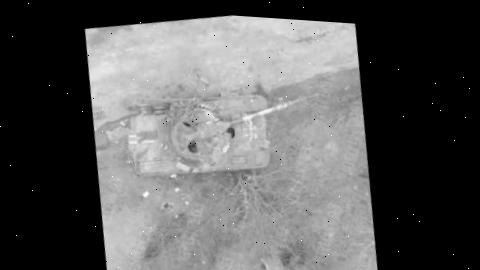tank: (119, 71, 331, 194)
